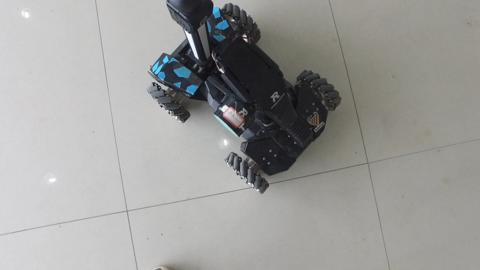chariot: (144, 4, 328, 187)
